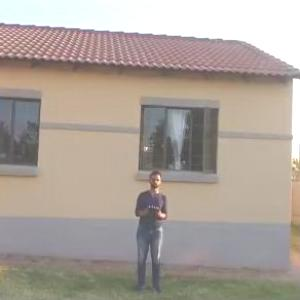follow: (128, 166, 170, 299)
